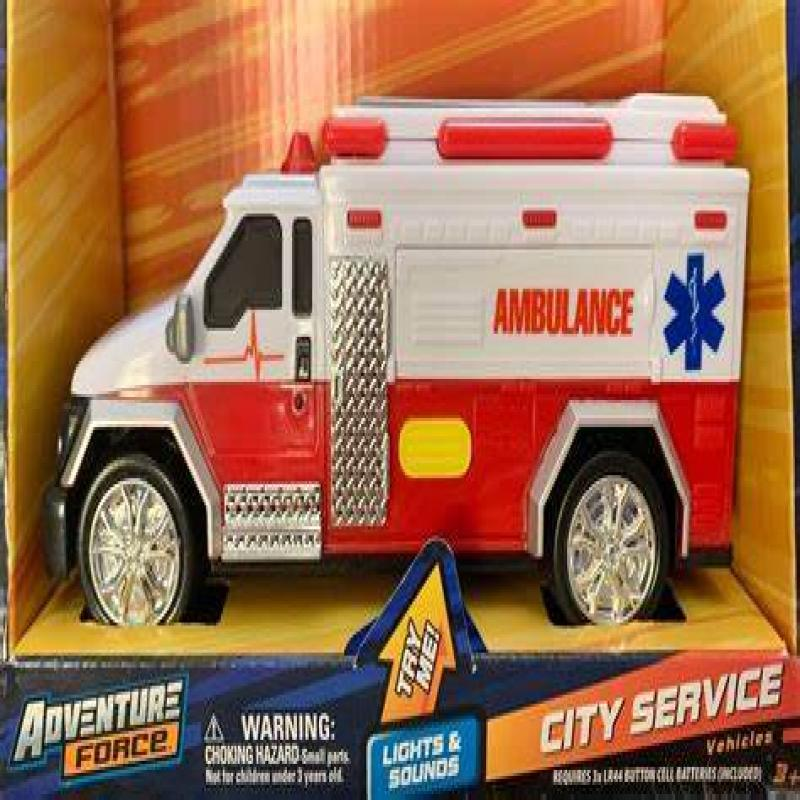AmbulanceSiren: (295, 98, 732, 192)
